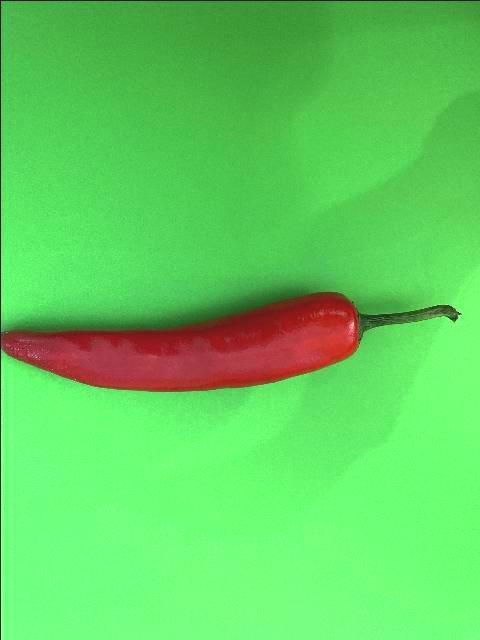chilli: (0, 288, 460, 394)
